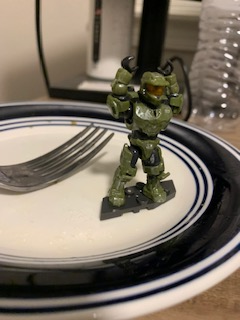chief: (106, 55, 183, 207)
spartan: (104, 53, 181, 205)
up: (102, 51, 185, 137)
